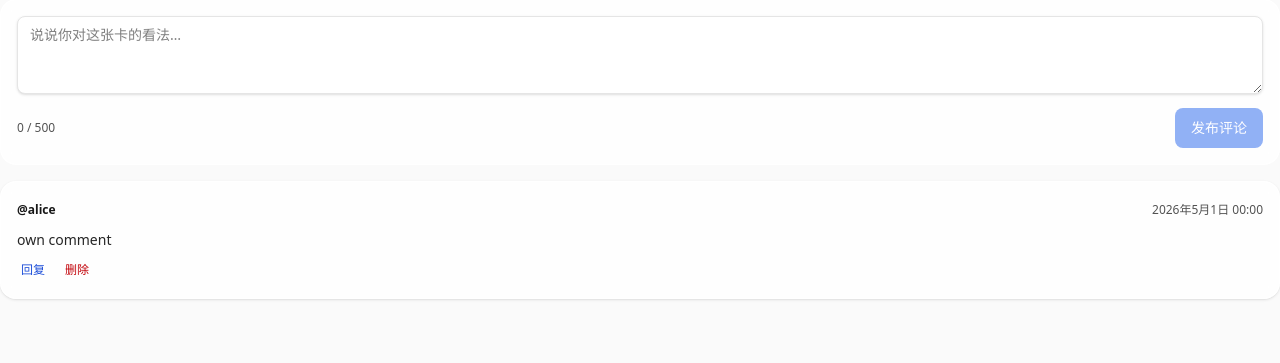
Scenario: CommentSection (authenticated) › shows an alert when comment deletion is forbidden
What coordinates should you click on to do the following:
click the button with aria-label "删除 @alice 的评论"
I would click on:
 (77, 270)
Its box is [61,258,93,282].
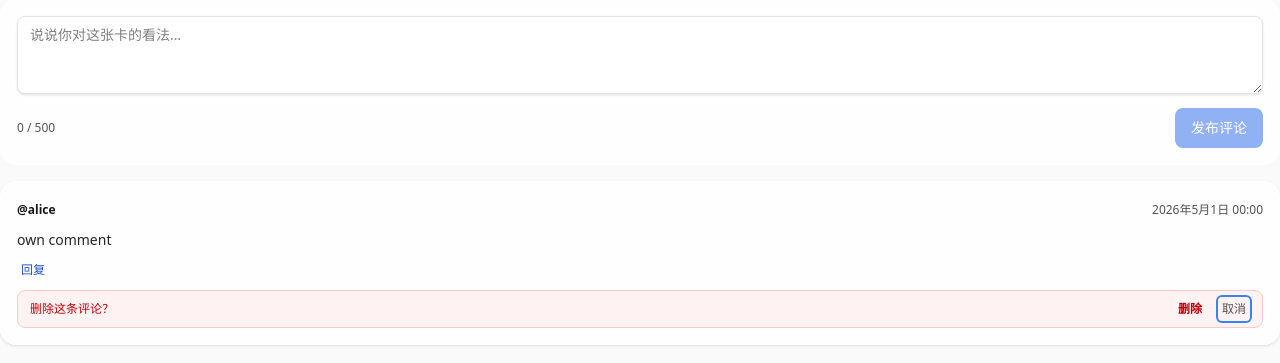
What coordinates should you click on to do the following:
click the button "删除"
I would click on:
 (1190, 309)
Its box is [1174,297,1206,321].
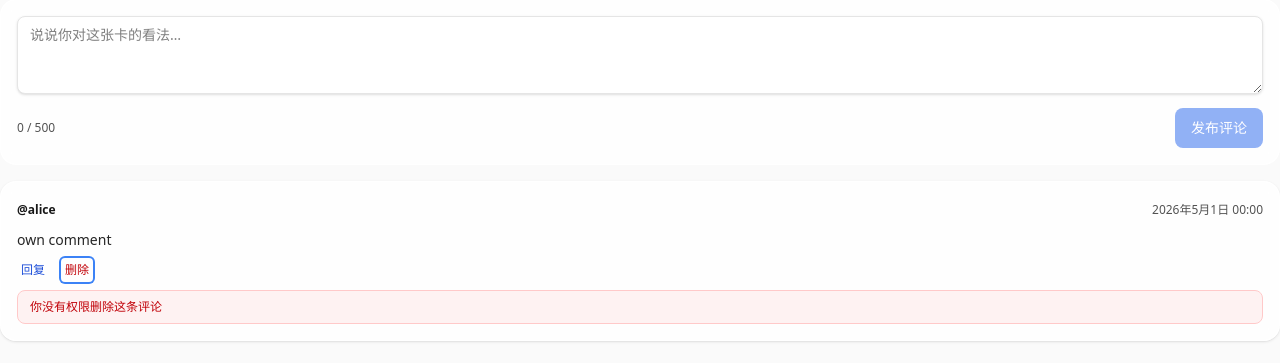
Now the message reads "你没有权限删除这条评论", box [30,298,162,315]
